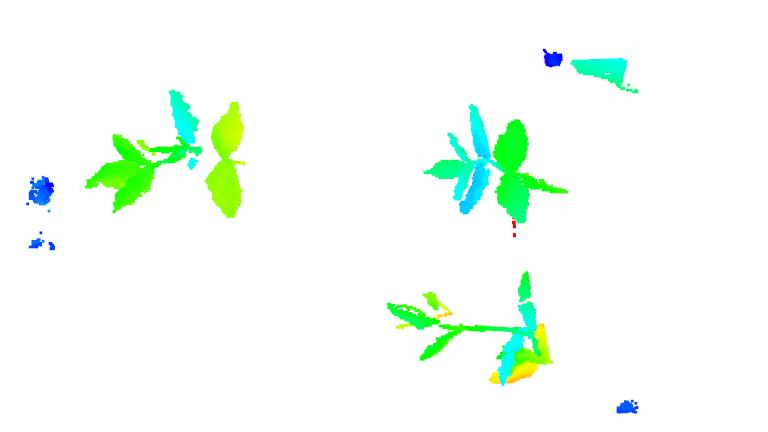mungbean: (88, 85, 255, 220), (390, 274, 557, 392), (426, 103, 575, 225)
